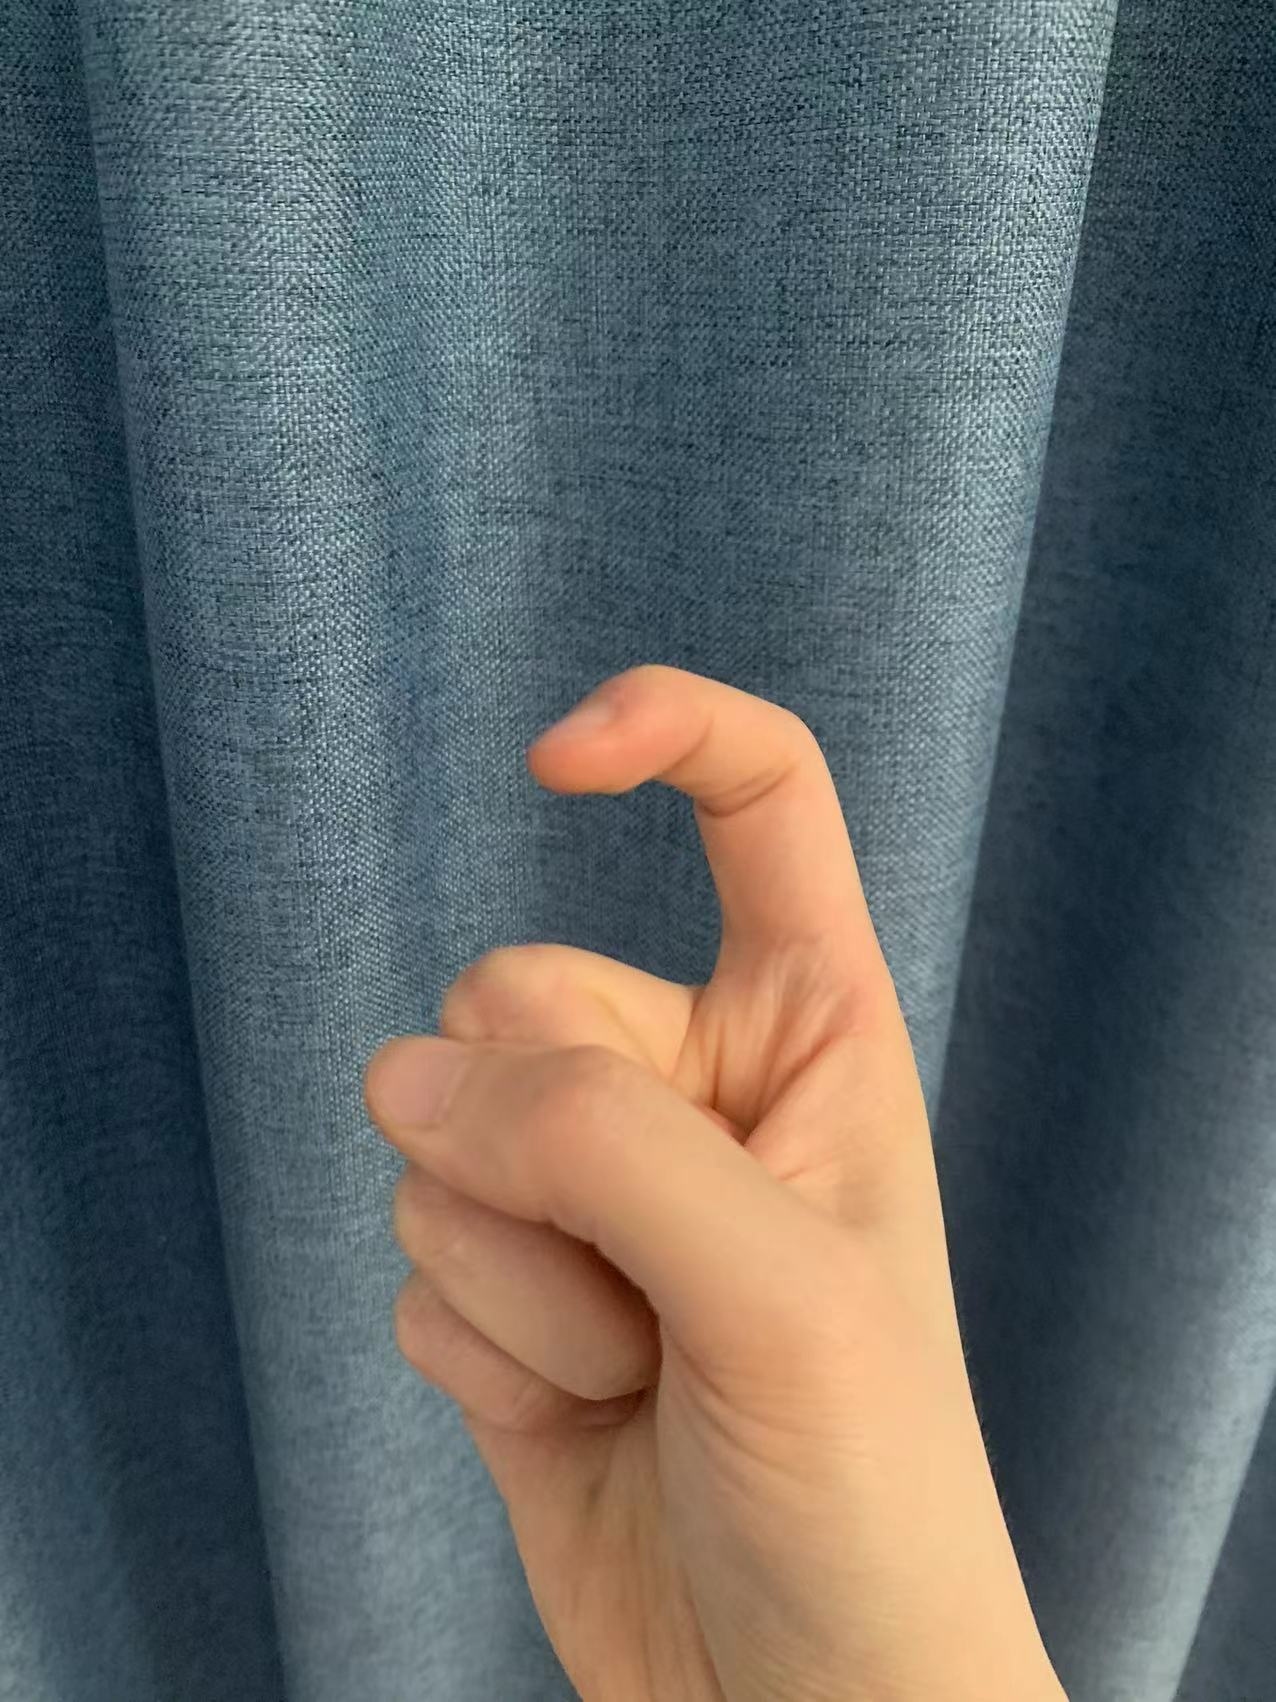anticlockwise: (378, 654, 982, 1694)
